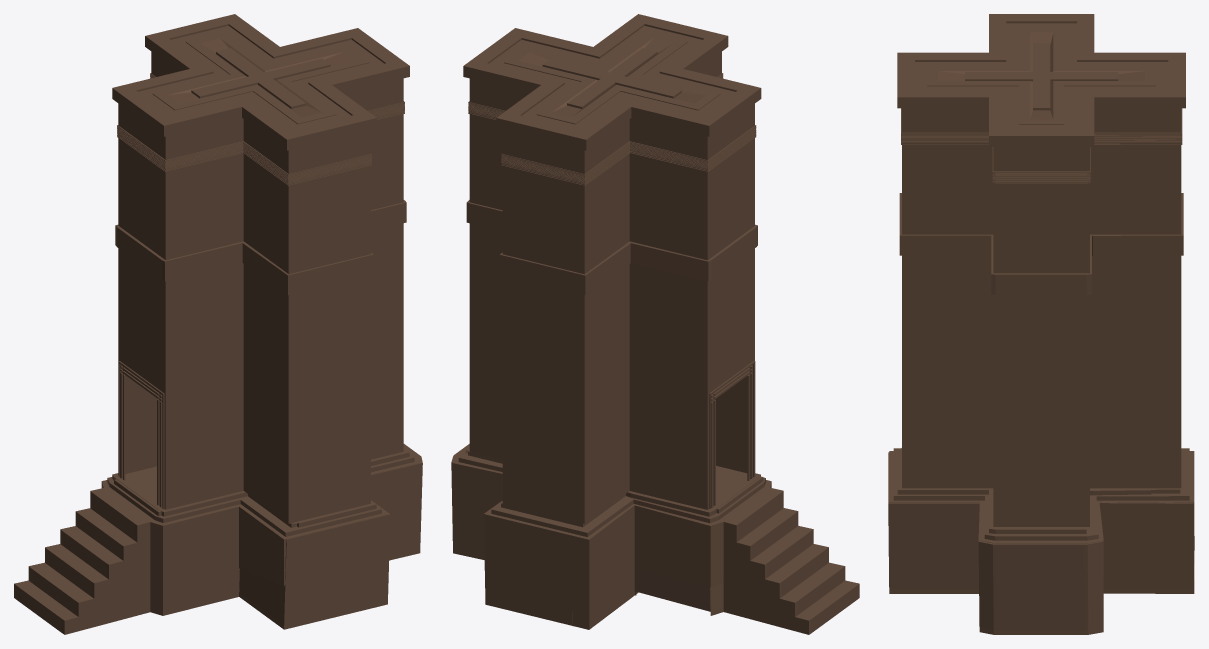
Rendered from Lalibela 3D Model.glb.
3 views of the same model, side by side, from view 1: azimuth 30°, elevation 25°; view 2: azimuth 150°, elevation 25°; view 3: azimuth 270°, elevation 25° (orthographic).
Parts seen in each view (by area): view 1: Cube_0; view 2: Cube_0; view 3: Cube_0.
Part boxes in pixels (box(x1,y1,x2,y2)): Cube_0: box(14, 14, 422, 634); Cube_0: box(451, 14, 859, 634); Cube_0: box(888, 14, 1194, 634).
Size of the model in its own units: 61.29 by 79.29 by 44.64.
